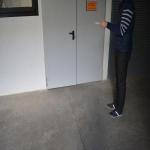Pisau: (93, 20, 101, 25)
